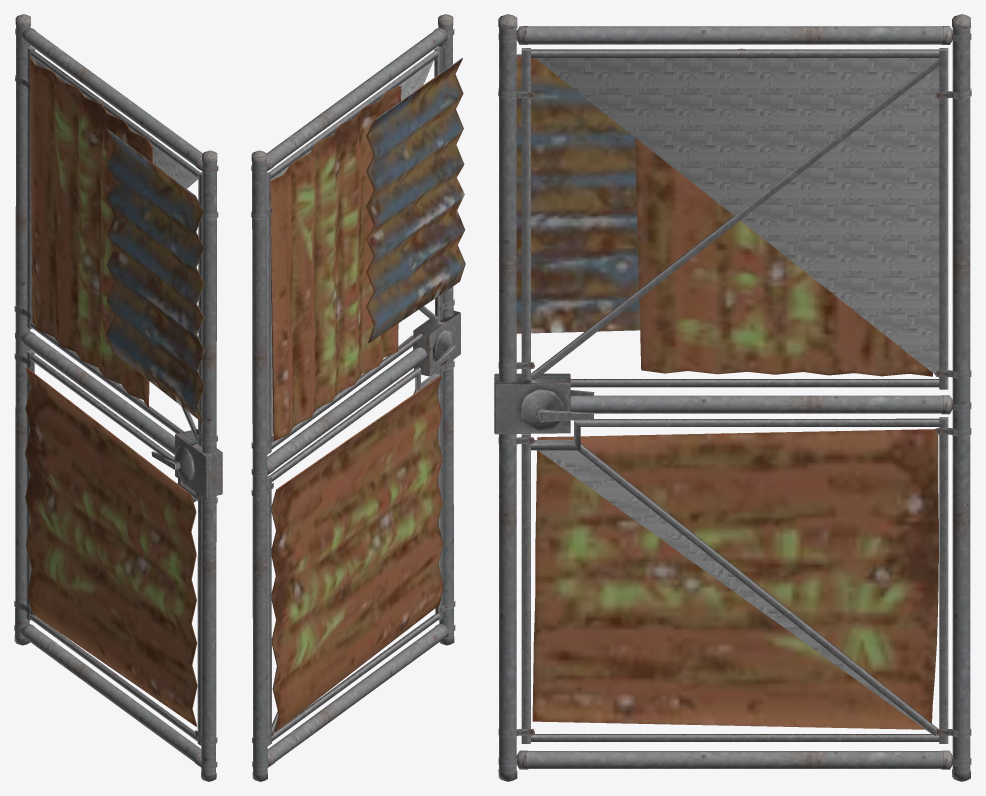
File: door.hinged.hab_t1.glb
3 views of the same model, side by side, from view 1: azimuth 30°, elevation 25°; view 2: azimuth 150°, elevation 25°; view 3: azimuth 270°, elevation 25° (orthographic). The views are drawn at different scales.
Visible parts, largest first — view 1: HAB_armor_T1_door_LOD0; view 2: HAB_armor_T1_door_LOD0; view 3: HAB_armor_T1_door_LOD0.
Part boxes in pixels (x1,y1,x2,y2): HAB_armor_T1_door_LOD0: [14, 14, 222, 781]; HAB_armor_T1_door_LOD0: [251, 14, 465, 781]; HAB_armor_T1_door_LOD0: [494, 14, 971, 781].
Bounding box in the file's own units: 0.1506 × 2.08 × 1.17.
3 materials, 3 textured.
